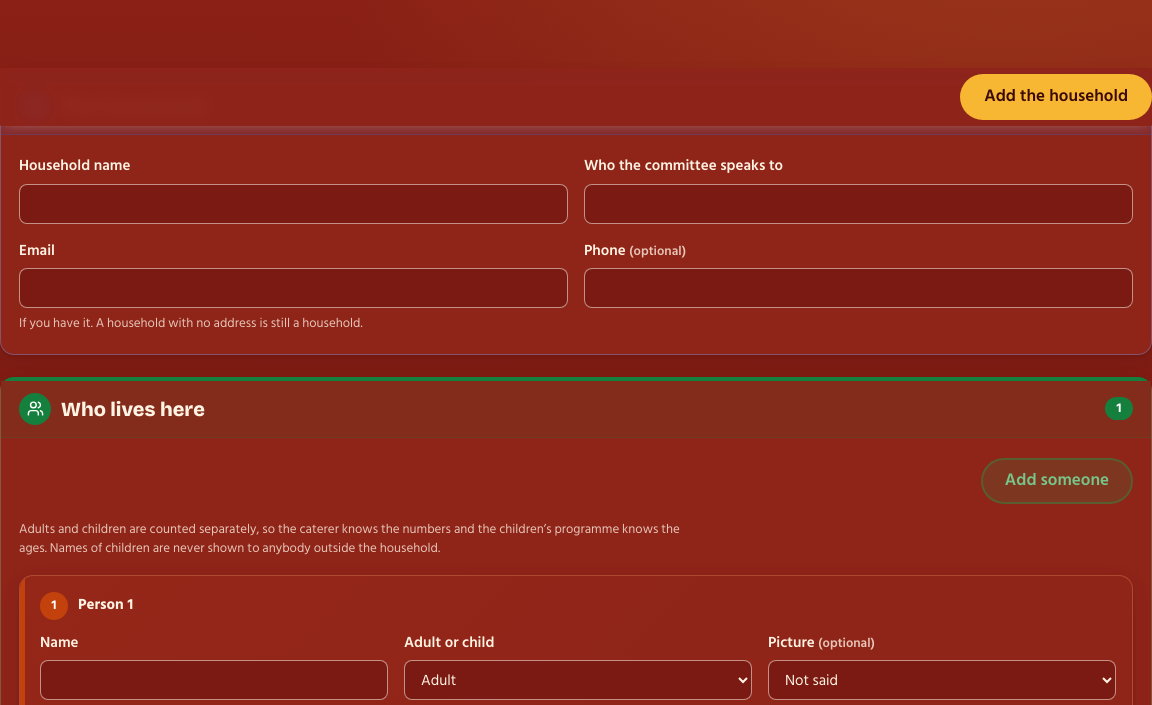
it: the people in it › asks for an age once somebody becomes a child
The image size is (1152, 705).
Select "Child" in the dropdown labelled "Adult or child" at (578, 680), box [404,660,752,700]
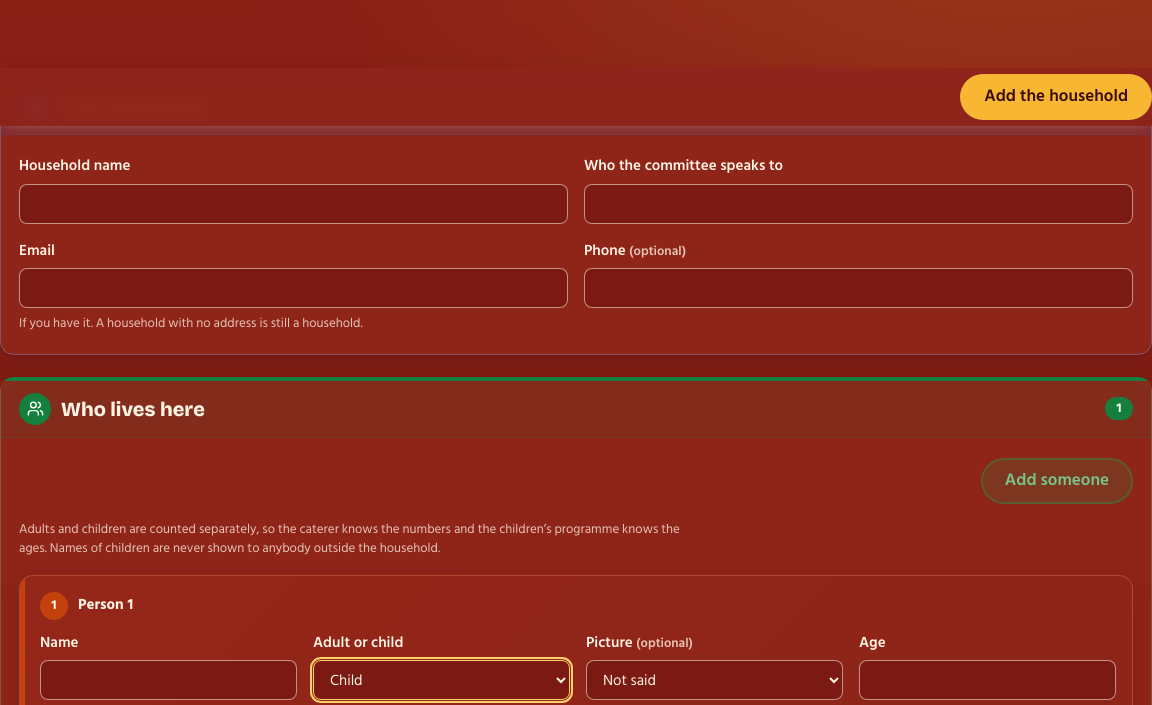
Check: the number field labelled "Age" is shown, box [859,660,1116,700]
